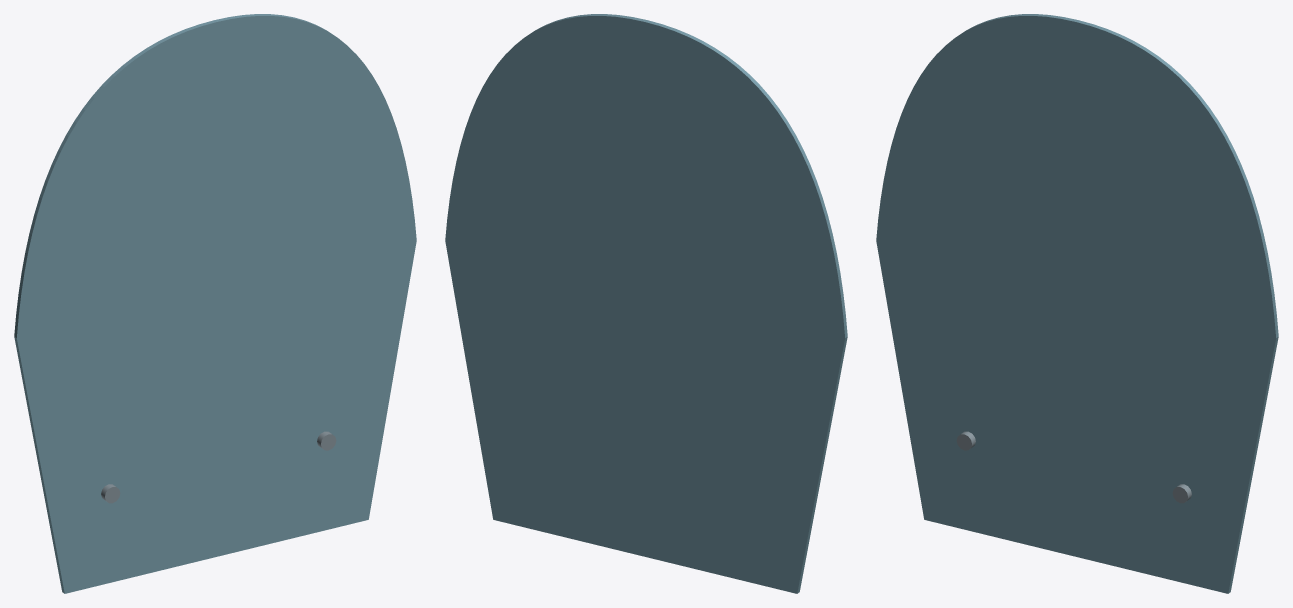
The model's file is windshield-touring.glb.
3 renders of one model, left to right at view 1: azimuth 30°, elevation 25°; view 2: azimuth 150°, elevation 25°; view 3: azimuth 330°, elevation 25°, orthographic.
Parts seen in each view (by area): view 1: preset-windshield-touring; view 2: preset-windshield-touring; view 3: preset-windshield-touring.
Boxes of the visible parts, left/top/right/bottom form: preset-windshield-touring: left=14, top=14, right=416, bottom=593; preset-windshield-touring: left=445, top=14, right=847, bottom=593; preset-windshield-touring: left=876, top=14, right=1278, bottom=593.
Size of the model in its own units: 0.36 by 0.46 by 0.01.
